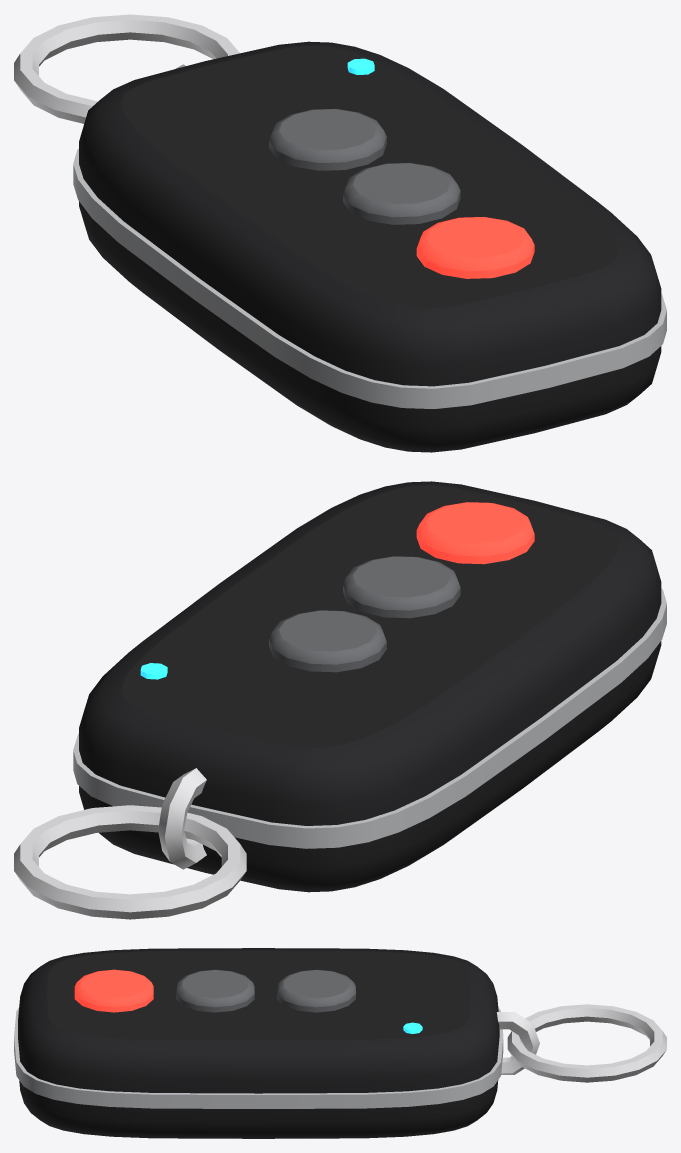
File: nz_keyfob_compact.glb
3 views of the same model, one above another, from view 1: azimuth 30°, elevation 25°; view 2: azimuth 150°, elevation 25°; view 3: azimuth 270°, elevation 25° (orthographic). The views are drawn at different scales.
Visible parts, largest first — view 1: nz_keyfob_compact; view 2: nz_keyfob_compact; view 3: nz_keyfob_compact.
Boxes of the visible parts, x1,y1,x2,y2 form: nz_keyfob_compact: (14, 14, 666, 452); nz_keyfob_compact: (14, 481, 666, 919); nz_keyfob_compact: (14, 948, 666, 1138).
Size of the model in its own units: 0.0288 by 0.0123 by 0.0678.
